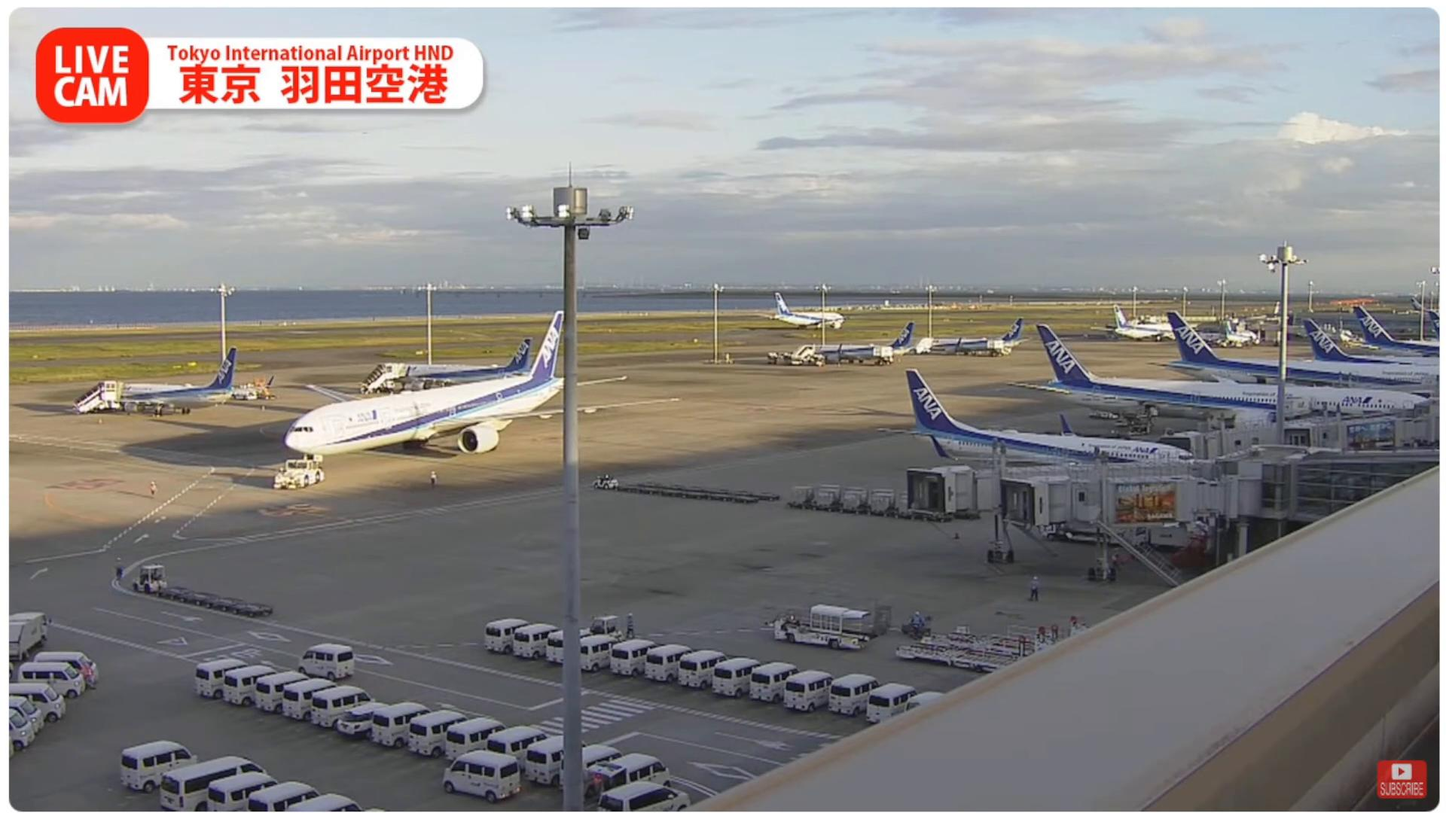APS: (274, 455, 323, 493)
Airplane: (278, 309, 640, 460)
Dolly: (152, 580, 283, 617)
JCPL: (893, 630, 1039, 676)
Skyloader: (774, 600, 879, 655)
Tractor: (134, 564, 168, 598)
